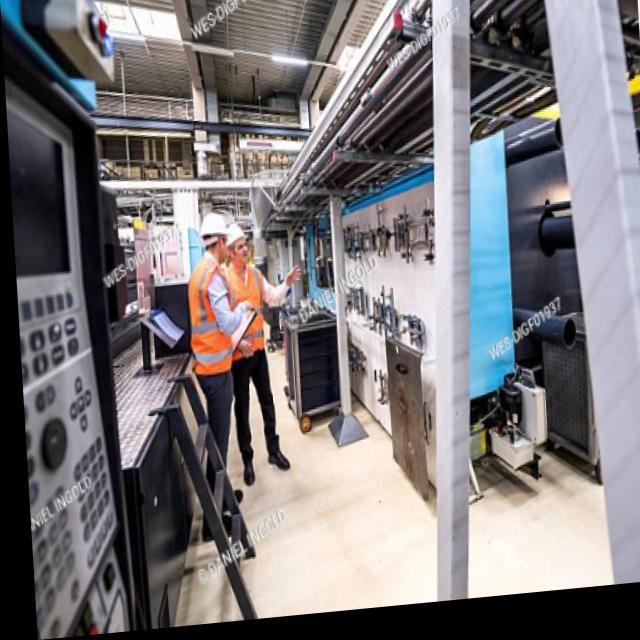boots: (239, 429, 293, 487), (198, 482, 247, 543)
helmet: (198, 208, 236, 266), (222, 217, 252, 267)
vest: (183, 254, 239, 379), (216, 256, 270, 365)
